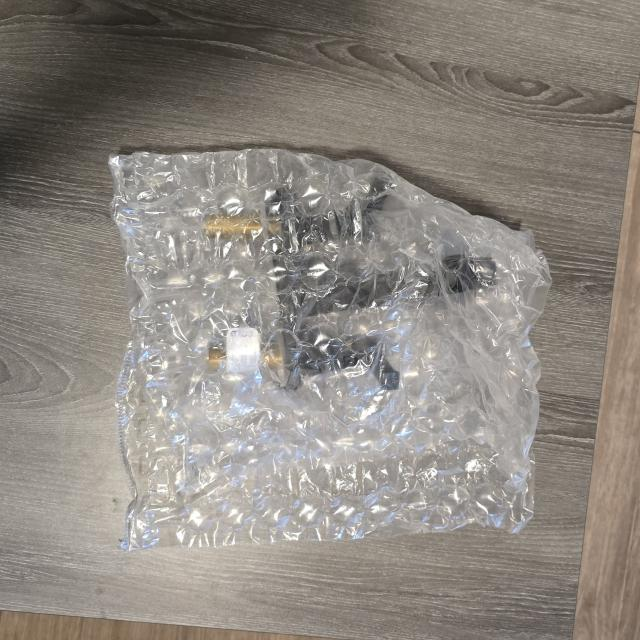9c: (110, 149, 550, 550)
